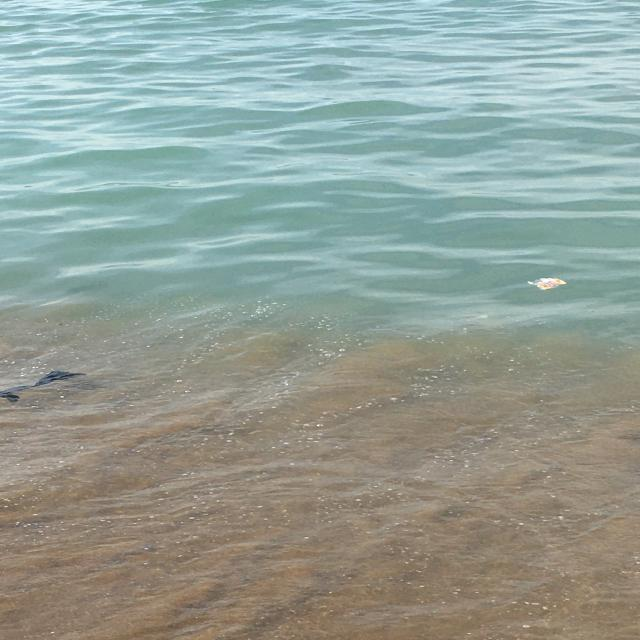Plastic bag: (0, 368, 89, 406)
Plastic packaging: (526, 276, 568, 291)
